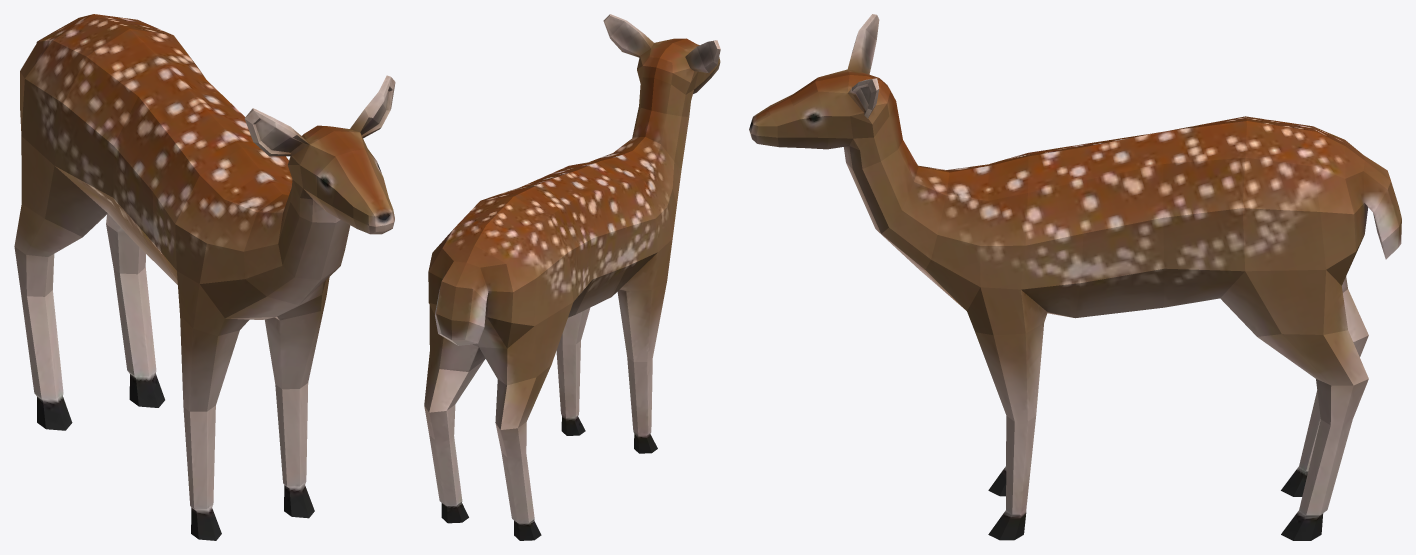
The model's file is animals-mule-deer-149.glb.
The picture shows the model from 3 angles, left to right: view 1: azimuth 30°, elevation 25°; view 2: azimuth 150°, elevation 25°; view 3: azimuth 270°, elevation 25°; orthographic projection. The views are drawn at different scales.
Parts seen in each view (by area): view 1: MuleDeer_mesh; view 2: MuleDeer_mesh; view 3: MuleDeer_mesh.
Part boxes in pixels (x1,y1,x2,y2): MuleDeer_mesh: (14, 14, 395, 540); MuleDeer_mesh: (424, 14, 720, 540); MuleDeer_mesh: (749, 14, 1401, 540).
Bounding box in the file's own units: 3.42 × 10.34 × 13.13.
1 material, 1 textured.
